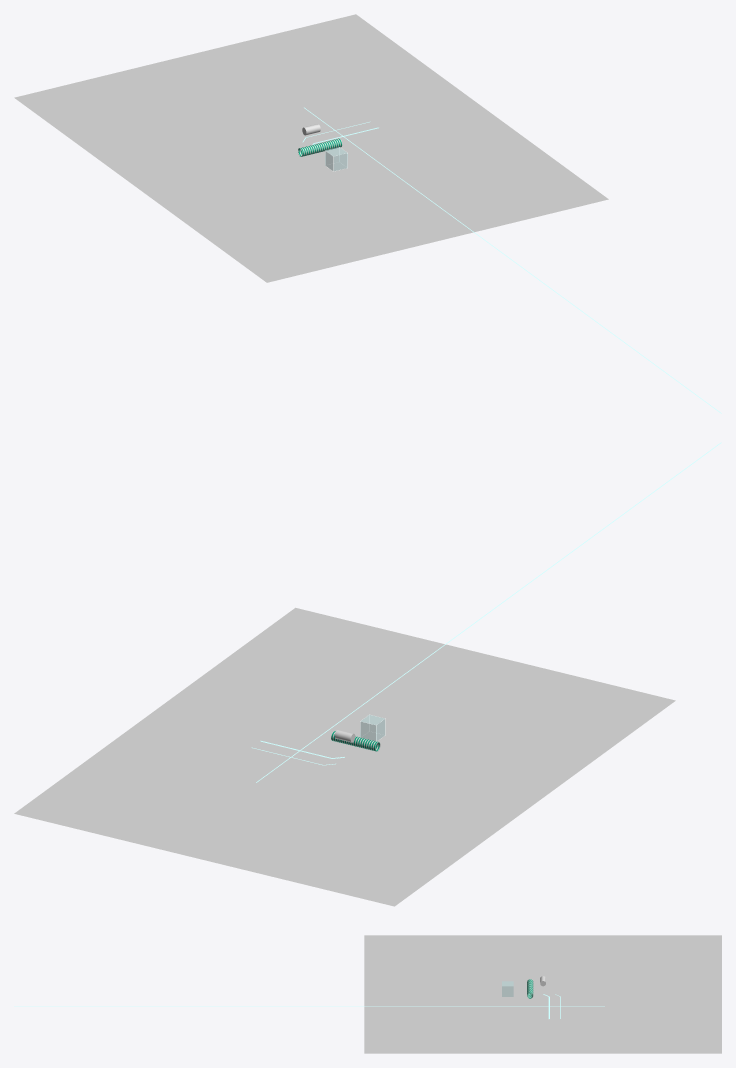
The picture shows the model from 3 angles, top to bottom: view 1: azimuth 30°, elevation 25°; view 2: azimuth 150°, elevation 25°; view 3: azimuth 270°, elevation 25°; orthographic projection. The views are drawn at different scales.
Visible parts, largest first — view 1: 立方体.1; view 2: 立方体.1; view 3: 立方体.1, 扫描.1.
Part boxes in pixels (x1=…): 立方体.1: x1=14, y1=14, x2=608, y2=282; 立方体.1: x1=14, y1=607, x2=675, y2=906; 立方体.1: x1=364, y1=935, x2=721, y2=1053; 扫描.1: x1=14, y1=1006, x2=604, y2=1006.
Bounding box in the file's own units: 47.66 × 3.01 × 121.
Materials: 5 (1 with a texture image).
